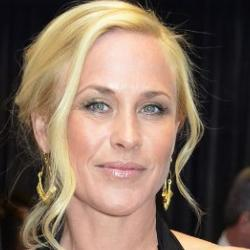face: (7, 2, 210, 243)
